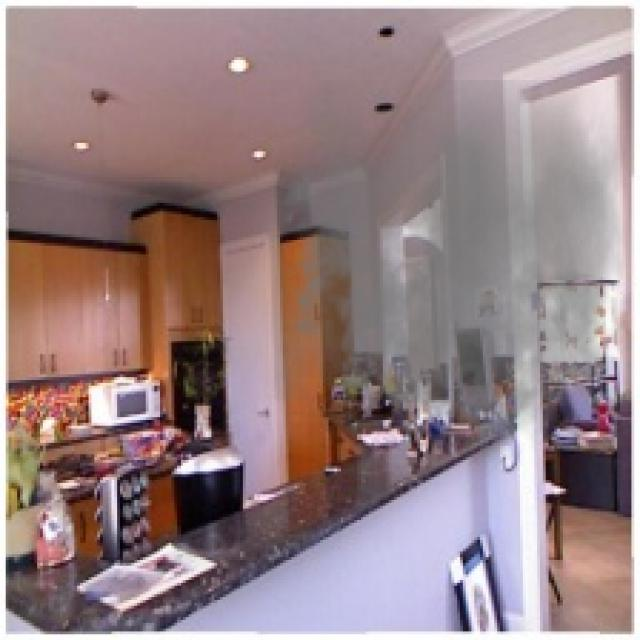smoke: (272, 80, 628, 466)
